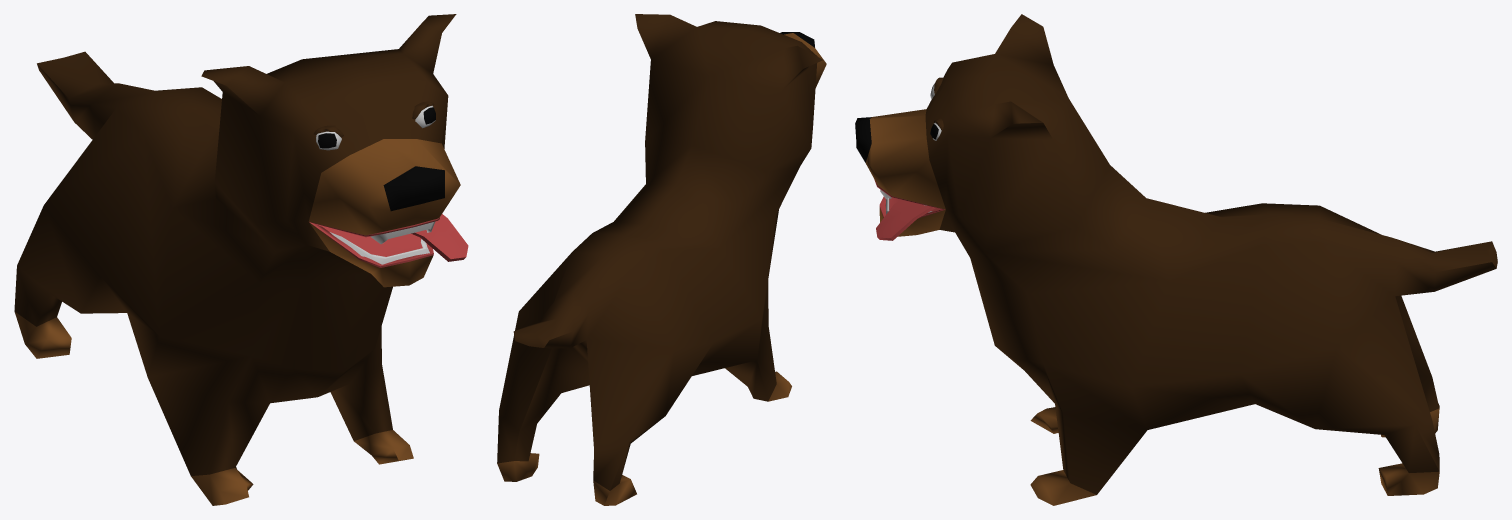
The model's file is Dog.fbx.
The picture shows the model from 3 angles, left to right: view 1: azimuth 30°, elevation 25°; view 2: azimuth 150°, elevation 25°; view 3: azimuth 270°, elevation 25°; orthographic projection. The views are drawn at different scales.
Visible parts, largest first — view 1: Dog; view 2: Dog; view 3: Dog.
Boxes of the visible parts, x1,y1,x2,y2 form: Dog: (14, 14, 468, 505); Dog: (497, 14, 826, 505); Dog: (855, 14, 1497, 505).
Bounding box in the file's own units: 178 × 302 × 441.
